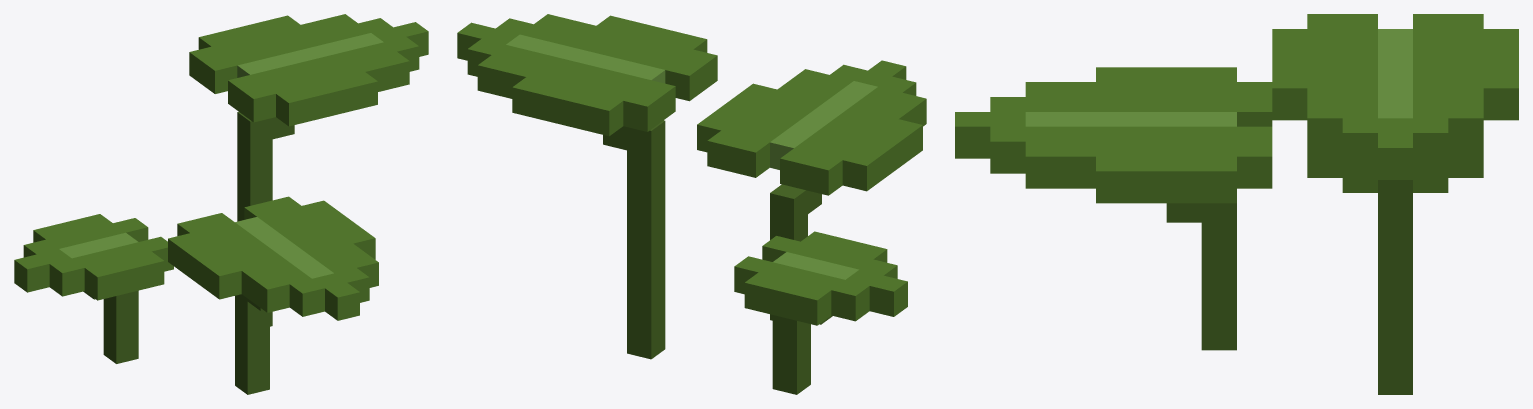
File: decor3.vox.obj
3 renders of one model, left to right at view 1: azimuth 30°, elevation 25°; view 2: azimuth 150°, elevation 25°; view 3: azimuth 270°, elevation 25°, orthographic. The views are drawn at different scales.
Size of the model in its own units: 1.8 by 1.1 by 1.6.
1 material, 1 textured.
